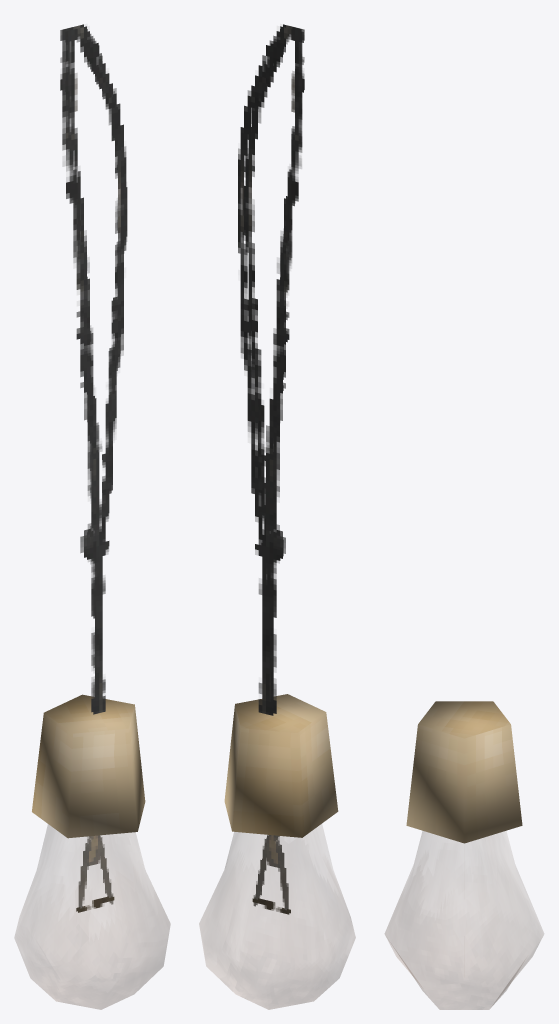
Rendered from Bulb.gltf.
3 renders of one model, left to right at view 1: azimuth 30°, elevation 25°; view 2: azimuth 150°, elevation 25°; view 3: azimuth 270°, elevation 25°, orthographic.
Parts seen in each view (by area): view 1: Bulb; view 2: Bulb; view 3: Bulb.
Boxes of the visible parts, bbox=[...] form: Bulb: bbox=[14, 24, 170, 1009]; Bulb: bbox=[199, 24, 355, 1009]; Bulb: bbox=[384, 701, 543, 1009].
Size of the model in its own units: 0.069 by 0.4834 by 0.0725.
Materials: 1 (1 with a texture image).
